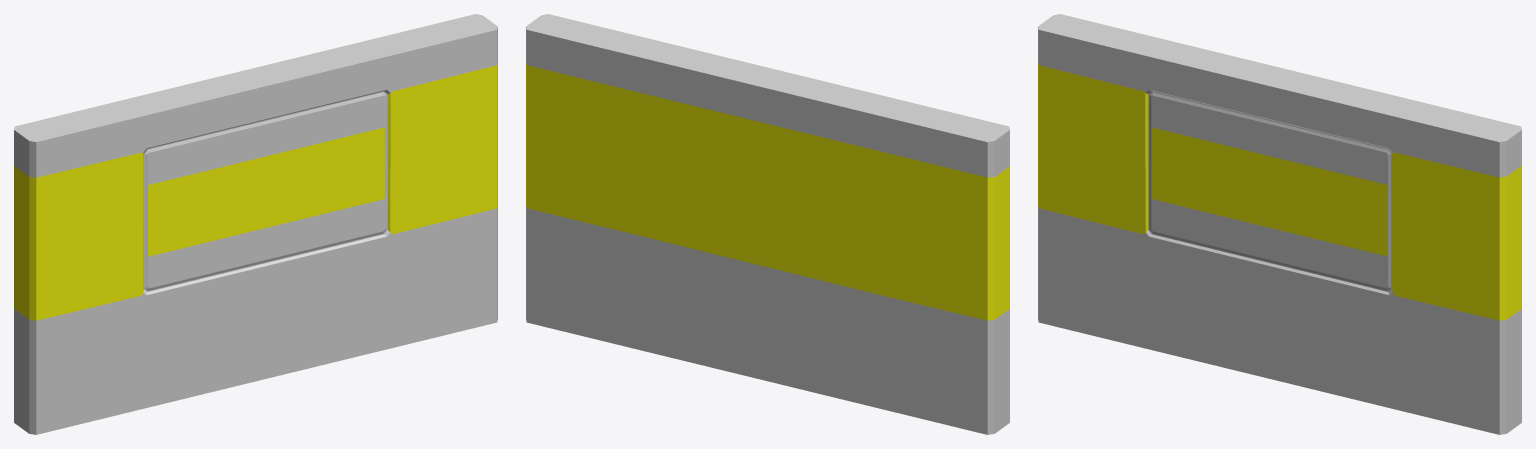
File: Institute_Wall_Final.FBX
The picture shows the model from 3 angles, left to right: view 1: azimuth 30°, elevation 25°; view 2: azimuth 150°, elevation 25°; view 3: azimuth 330°, elevation 25°; orthographic projection.
Visible parts, largest first — view 1: Muro02; view 2: Muro02; view 3: Muro02.
Boxes of the visible parts, bbox=[...] form: Muro02: bbox=[14, 14, 497, 434]; Muro02: bbox=[526, 14, 1009, 434]; Muro02: bbox=[1038, 14, 1521, 434].
Size of the model in its own units: 600 by 359 by 47.83.
